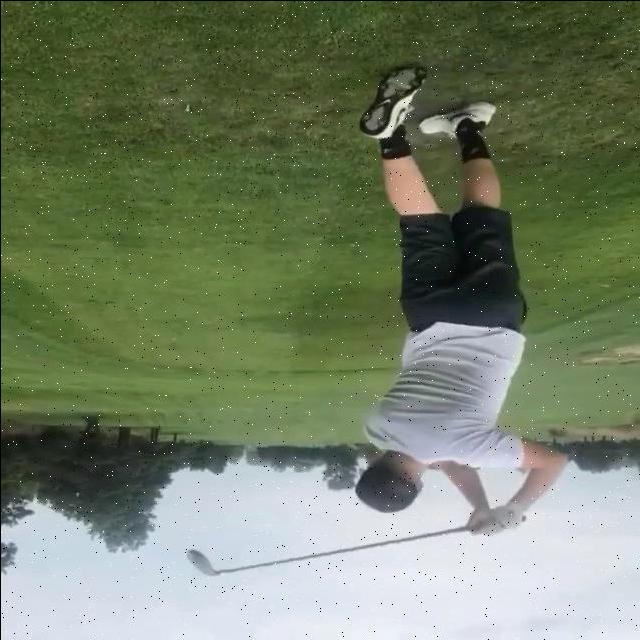golf club-handle: (183, 514, 525, 576)
golf club-head: (182, 549, 213, 577)
